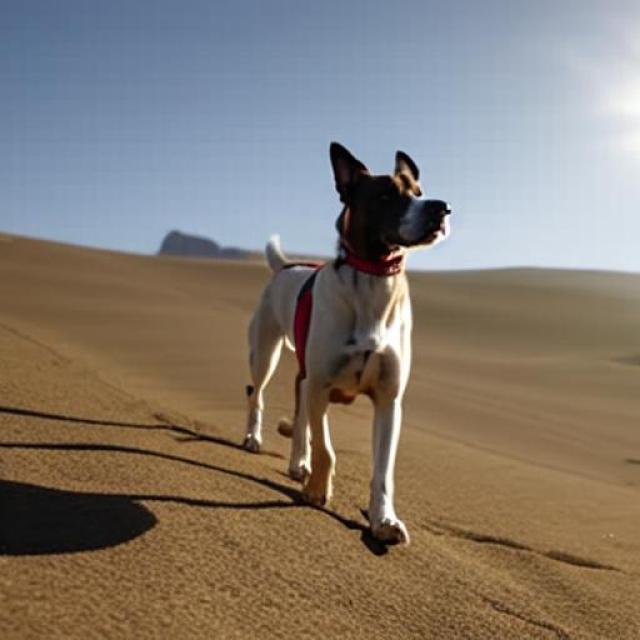Dog: (242, 142, 452, 546)
